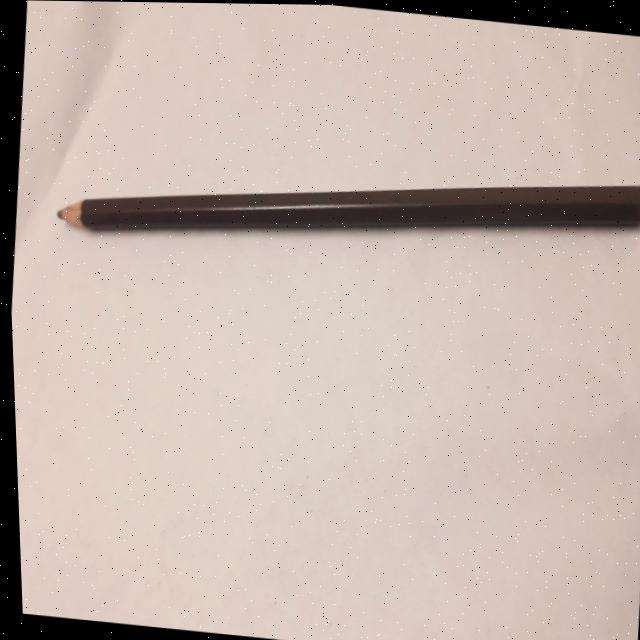pencil: (46, 124, 640, 299)
